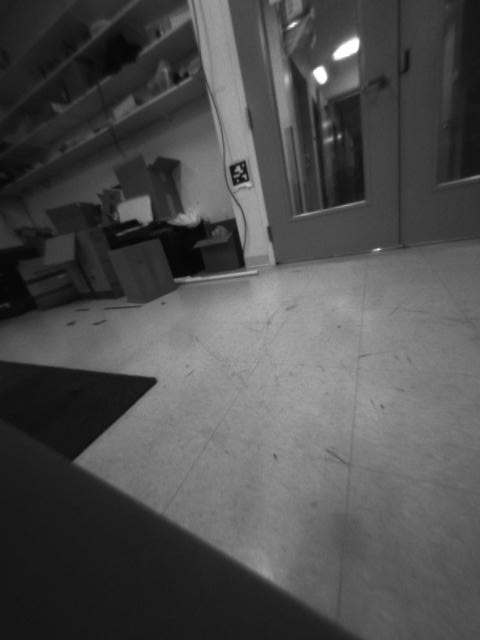door_handle: (357, 67, 393, 95)
